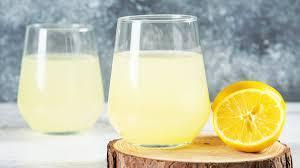lemon: (210, 81, 286, 152)
